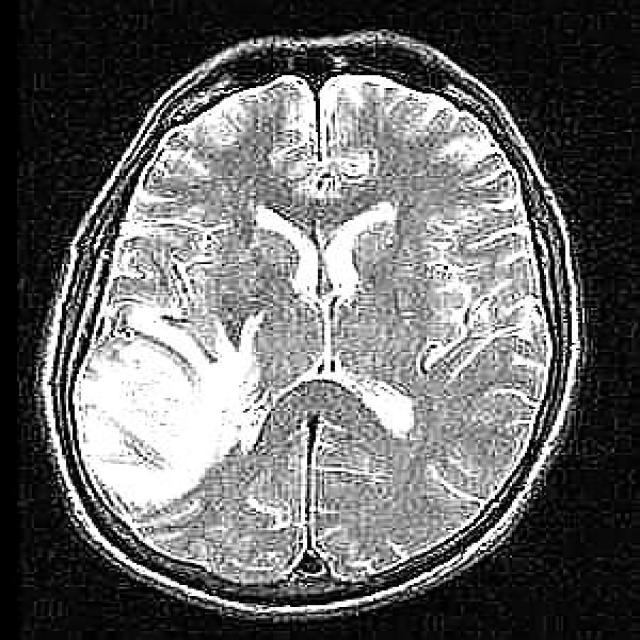Tumor-Cell: (74, 306, 278, 492)
